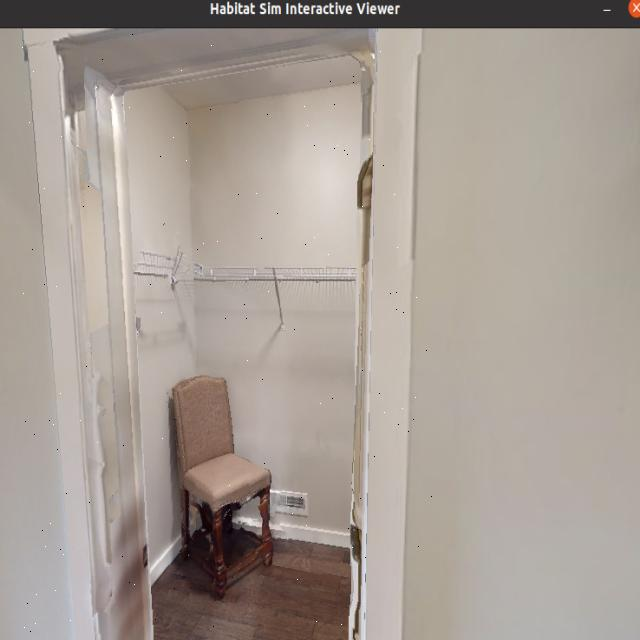chair: (140, 343, 295, 614)
door-frame: (11, 30, 439, 640)
